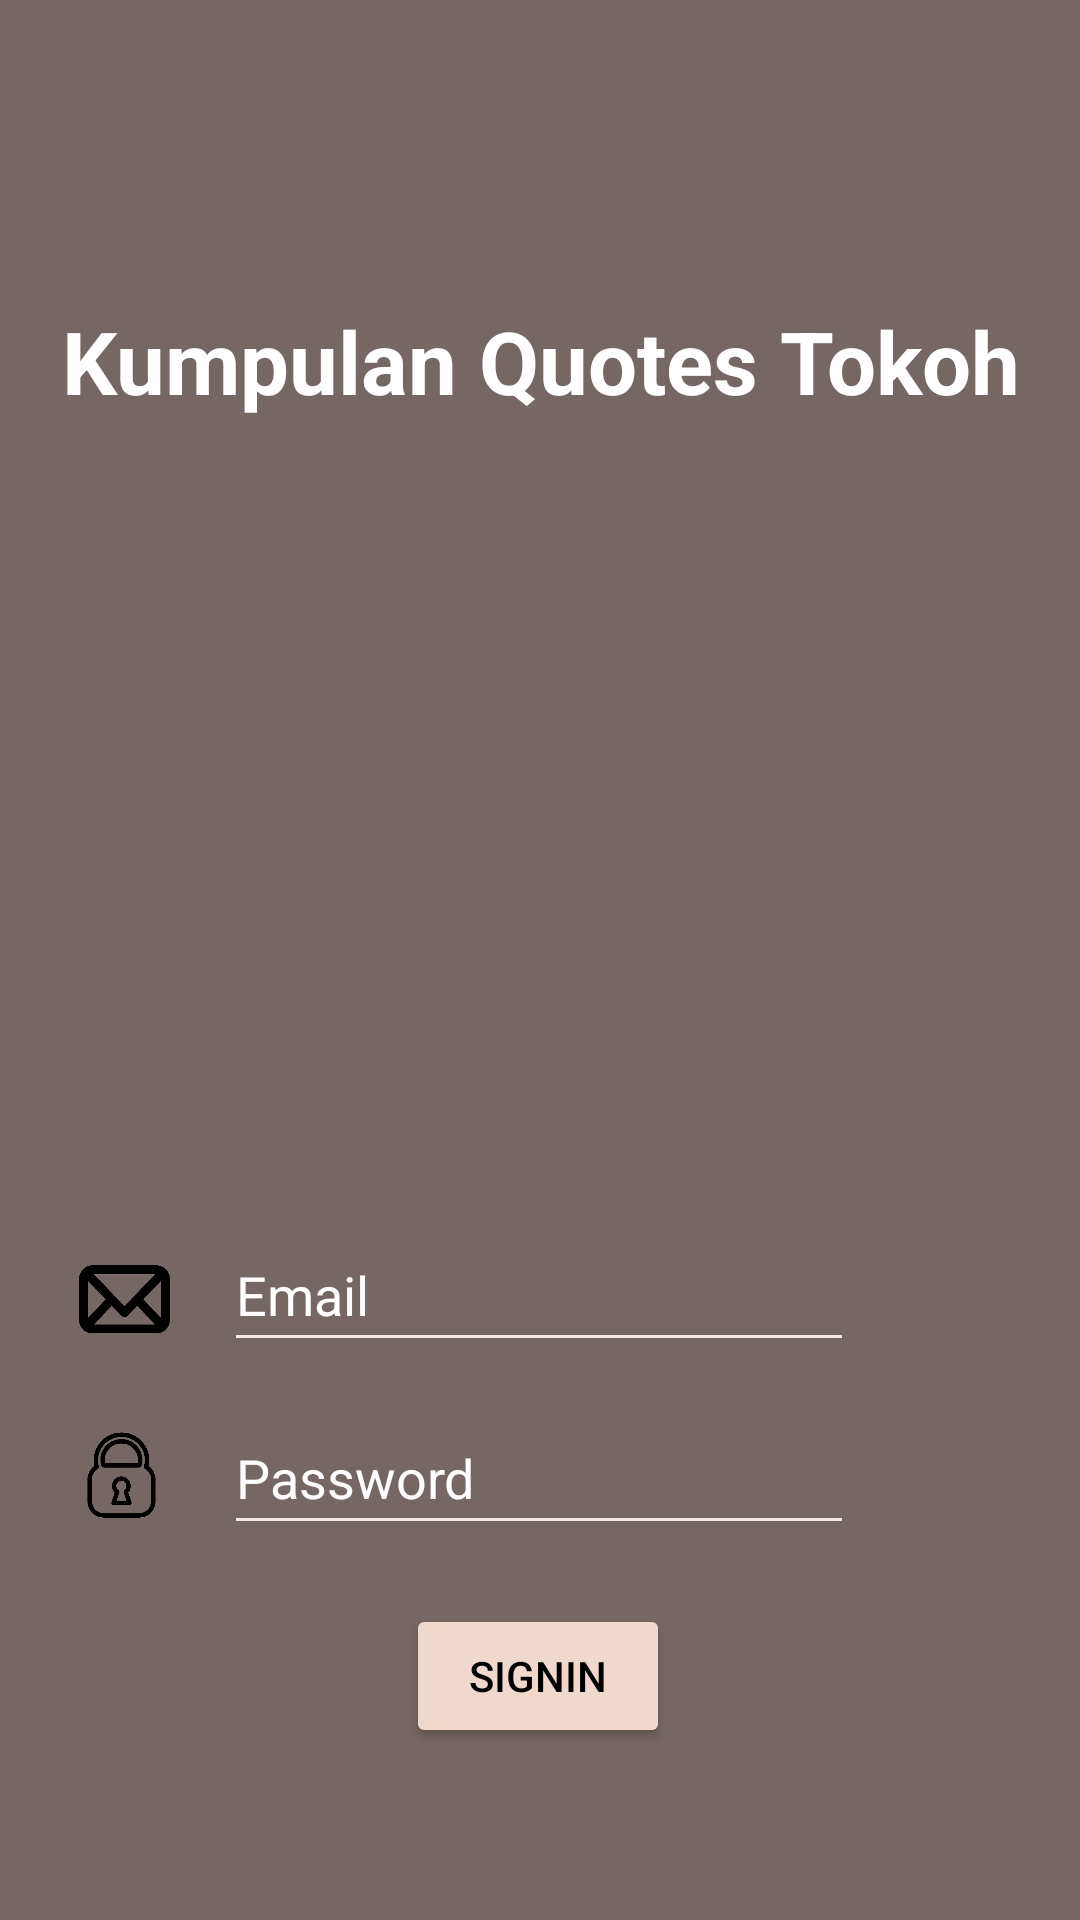

Named icons in this screenshot (1080 × 1920) and their centers, [x,y]:
kunci: [121,1475]
